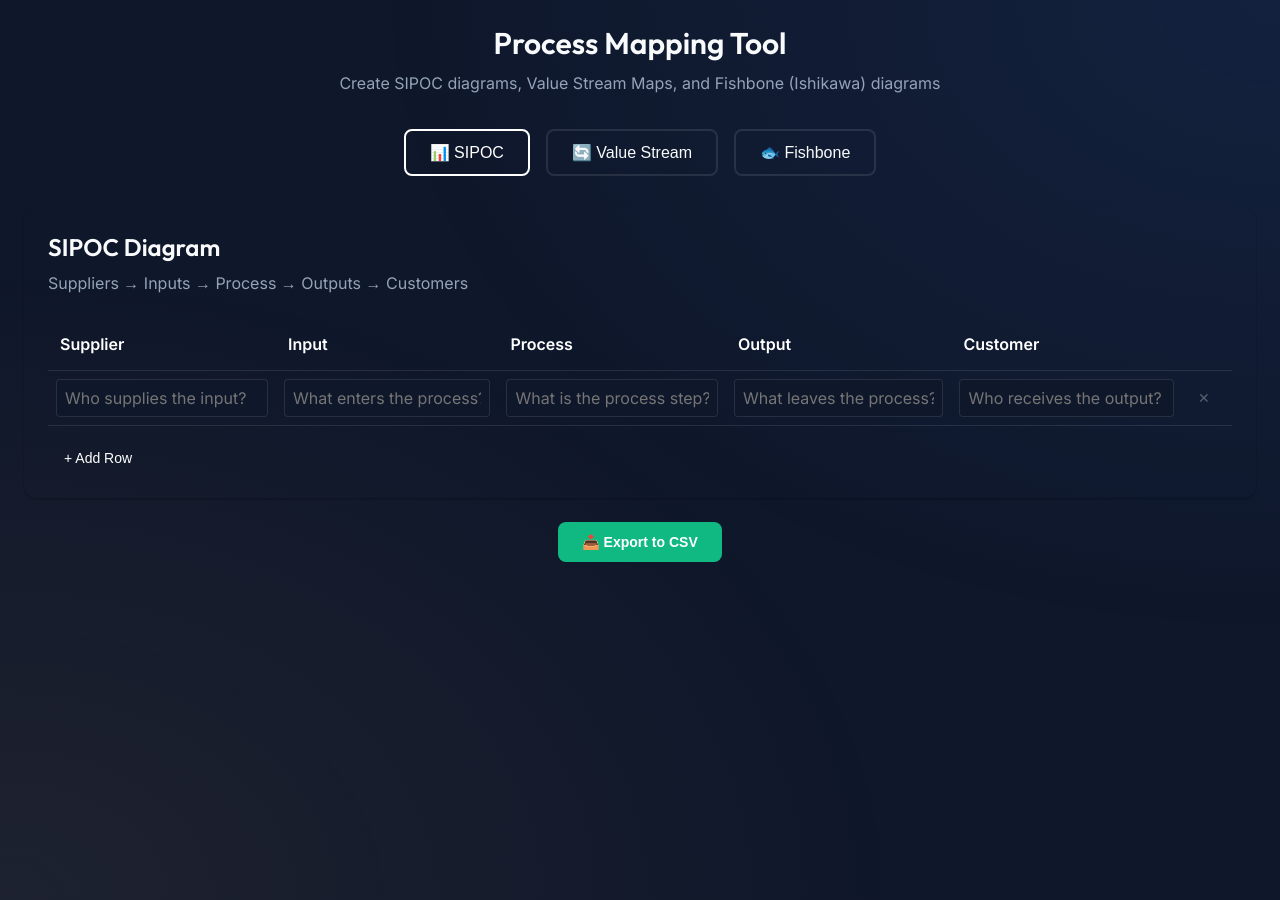
ProcessMapping › SIPOC Diagram › removes row when remove button clicked
Add a row first
Click the button "+ Add Row": (98, 458) [48,442,148,474]
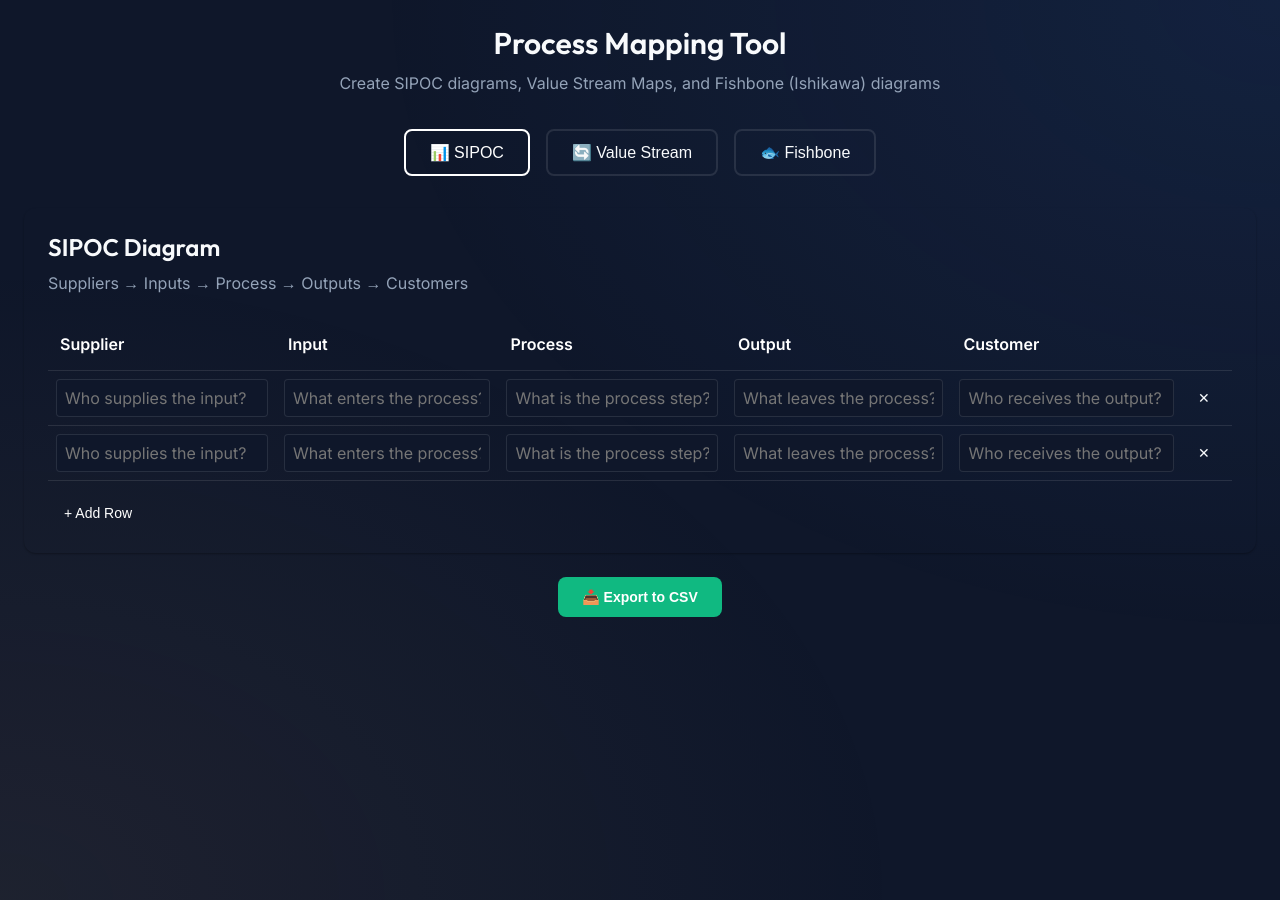
expect the number of buttons with class "remove-row-btn" is 2: met
Remove the row
Click the 1st button with class "remove-row-btn": (1204, 398) [1190,386,1218,410]
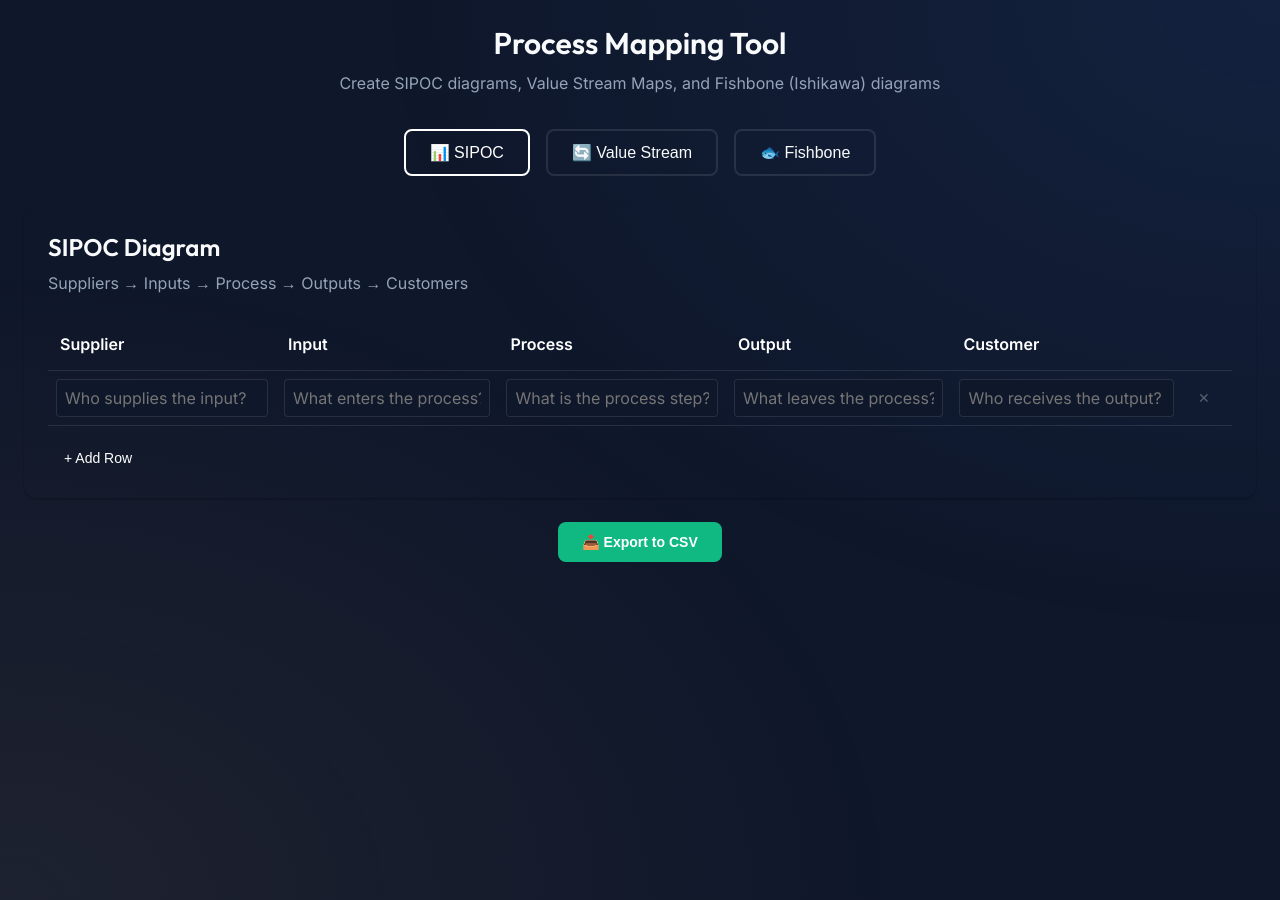
expect the number of buttons with class "remove-row-btn" is 1: met, box [1190,386,1218,410]
